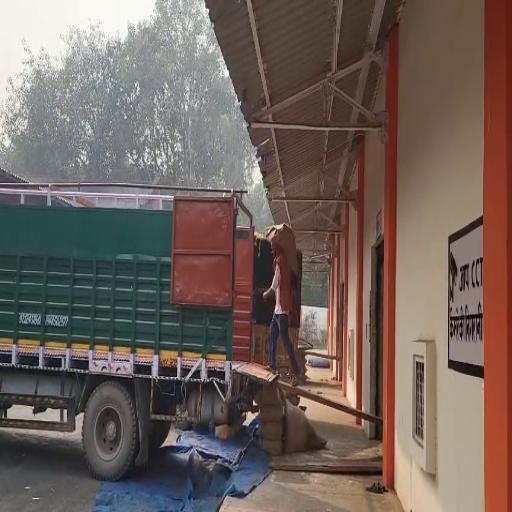bag: (264, 218, 302, 282)
